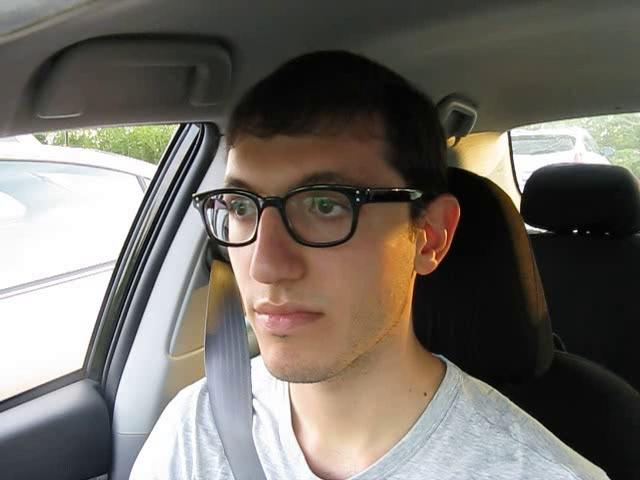no_yawn: (229, 292, 333, 343)
open_eyeL: (214, 186, 270, 233)
open_eyeR: (287, 181, 366, 236)
